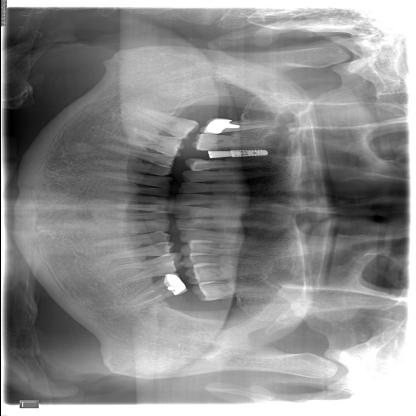ITI: (226, 149, 269, 157)
